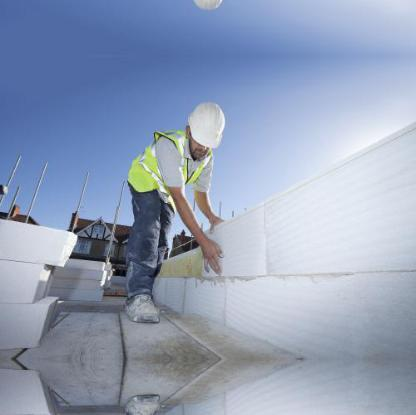helmet: (184, 99, 229, 153)
